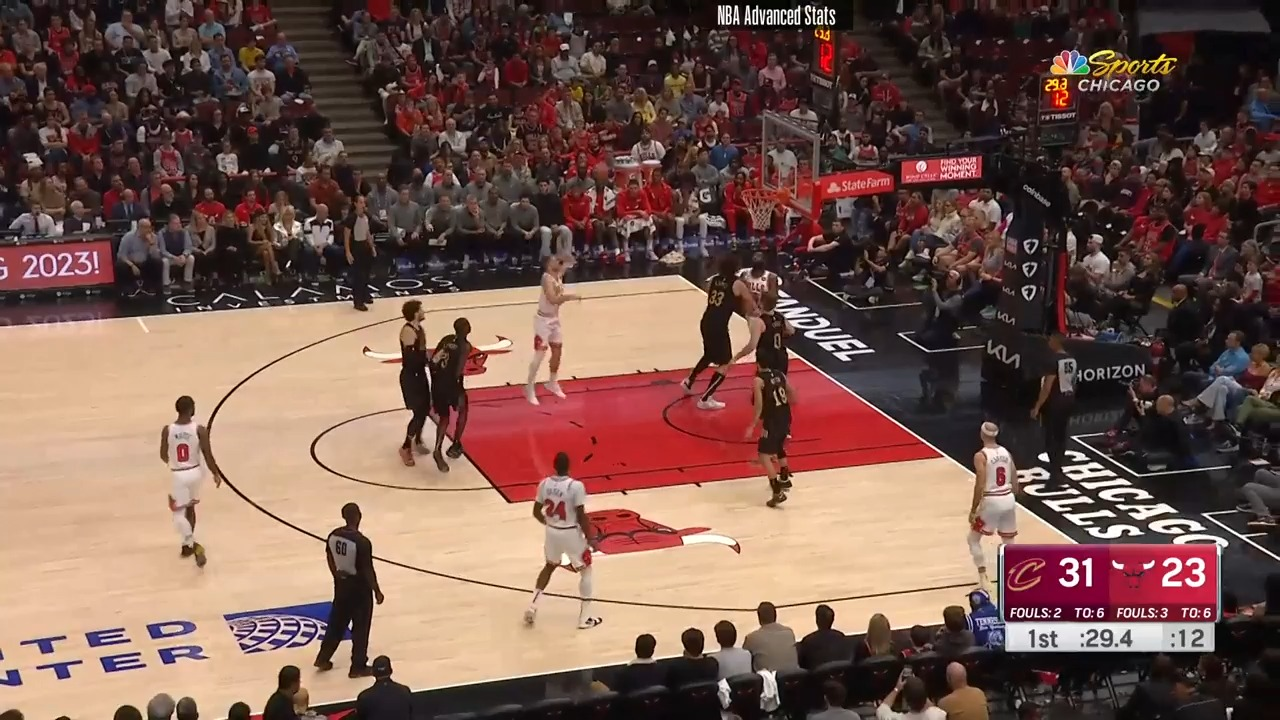net: (727, 179, 804, 235)
player: (518, 446, 605, 632), (153, 394, 229, 574), (946, 412, 1021, 584), (680, 260, 758, 417), (430, 313, 481, 474), (745, 356, 797, 511), (396, 298, 439, 472), (532, 255, 576, 412), (728, 255, 789, 358), (738, 293, 793, 374)
referee: (306, 499, 387, 684), (1021, 332, 1081, 491), (347, 187, 386, 312)
